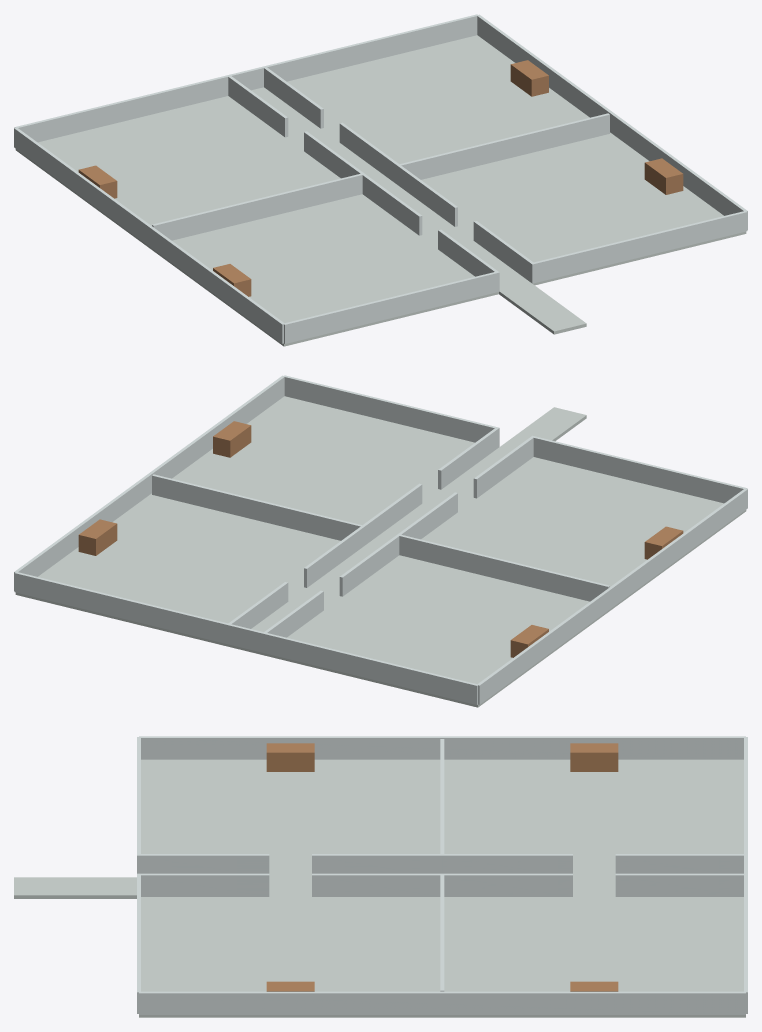
Rendered from council-cutaway.glb.
The picture shows the model from 3 angles, top to bottom: view 1: azimuth 30°, elevation 25°; view 2: azimuth 150°, elevation 25°; view 3: azimuth 270°, elevation 25°; orthographic projection. The views are drawn at different scales.
Parts seen in each view (by area): view 1: council/floor/cutaway.002, council/rear-wall/cutaway.002, council/outer--1/cutaway.002, council/outer-1/cutaway.002, council/entry-jamb-1/cutaway.002, council/entry-jamb--1/cutaway.002, council/room-divider--1/cutaway.002, council/room-divider-1/cutaway.002, council/portal-floor-0/cutaway.002, council/corridor-1-1-a/cutaway.002, council/corridor--1-1-a/cutaway.002, council/corridor--1--1-a/cutaway.002 (+9 smaller); view 2: council/floor/cutaway.002, council/rear-wall/cutaway.002, council/outer--1/cutaway.002, council/outer-1/cutaway.002, council/entry-jamb-1/cutaway.002, council/entry-jamb--1/cutaway.002, council/room-divider--1/cutaway.002, council/room-divider-1/cutaway.002, council/portal-floor-0/cutaway.002, council/corridor-1-1-b/cutaway.002, council/corridor-1--1-b/cutaway.002, council/corridor--1--1-b/cutaway.002 (+9 smaller); view 3: council/floor/cutaway.002, council/outer-1/cutaway.002, council/outer--1/cutaway.002, council/corridor-1--1-b/cutaway.002, council/corridor-1--1-a/cutaway.002, council/corridor-1-1-a/cutaway.002, council/corridor-1-1-b/cutaway.002, council/portal-floor-0/cutaway.002, council/corridor--1-1-a/cutaway.002, council/corridor--1-1-b/cutaway.002, council/corridor--1--1-b/cutaway.002, council/corridor--1--1-a/cutaway.002 (+9 smaller).
Boxes of the visible parts, x1,y1,x2,y2 form: council/floor/cutaway.002: (15, 35, 746, 346); council/rear-wall/cutaway.002: (14, 14, 477, 142); council/outer--1/cutaway.002: (14, 127, 284, 343); council/outer-1/cutaway.002: (477, 14, 747, 230); council/entry-jamb-1/cutaway.002: (530, 211, 747, 283); council/entry-jamb--1/cutaway.002: (283, 271, 499, 343); council/room-divider--1/cutaway.002: (152, 173, 362, 240); council/room-divider-1/cutaway.002: (400, 113, 609, 179); council/portal-floor-0/cutaway.002: (499, 283, 586, 334); council/corridor-1-1-a/cutaway.002: (397, 165, 457, 226); council/corridor--1-1-a/cutaway.002: (362, 173, 422, 235); council/corridor--1--1-a/cutaway.002: (228, 75, 288, 137); council/floor/cutaway.002: (15, 396, 746, 707); council/rear-wall/cutaway.002: (14, 572, 477, 704); council/outer--1/cutaway.002: (477, 488, 747, 704); council/outer-1/cutaway.002: (14, 375, 284, 591); council/entry-jamb-1/cutaway.002: (283, 375, 499, 446); council/entry-jamb--1/cutaway.002: (531, 435, 747, 503); council/room-divider--1/cutaway.002: (399, 534, 609, 601); council/room-divider-1/cutaway.002: (152, 474, 361, 540); council/portal-floor-0/cutaway.002: (499, 407, 586, 450); council/corridor-1-1-b/cutaway.002: (438, 427, 498, 489); council/corridor-1--1-b/cutaway.002: (304, 526, 364, 587); council/corridor--1--1-b/cutaway.002: (339, 534, 399, 596); council/floor/cutaway.002: (139, 759, 745, 1017); council/outer-1/cutaway.002: (139, 991, 745, 1014); council/outer--1/cutaway.002: (139, 736, 745, 759); council/corridor-1--1-b/cutaway.002: (442, 873, 572, 896); council/corridor-1--1-a/cutaway.002: (615, 873, 745, 896); council/corridor-1-1-a/cutaway.002: (312, 873, 442, 896); council/corridor-1-1-b/cutaway.002: (139, 873, 269, 896); council/portal-floor-0/cutaway.002: (14, 877, 136, 898); council/corridor--1-1-a/cutaway.002: (312, 854, 442, 873); council/corridor--1-1-b/cutaway.002: (139, 854, 269, 873); council/corridor--1--1-b/cutaway.002: (442, 854, 572, 873); council/corridor--1--1-a/cutaway.002: (615, 854, 745, 873).
Size of the model in its own units: 22.84 by 1.05 by 27.58.
